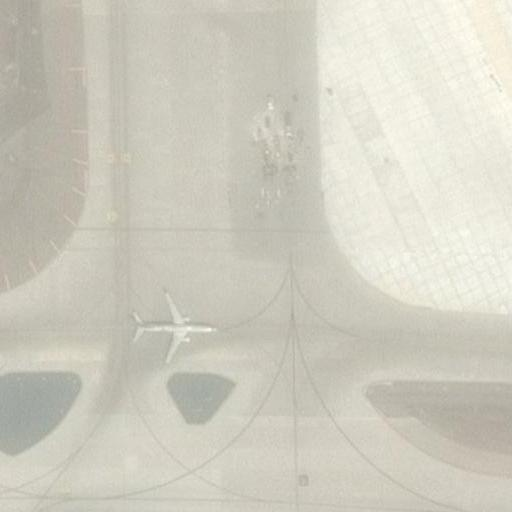Aircraft: (135, 297, 217, 364)
